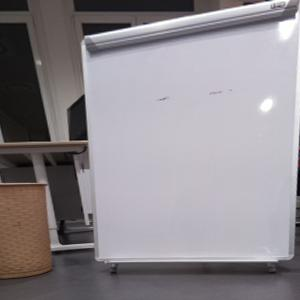big: (81, 1, 300, 274)
medium: (1, 182, 50, 281)
